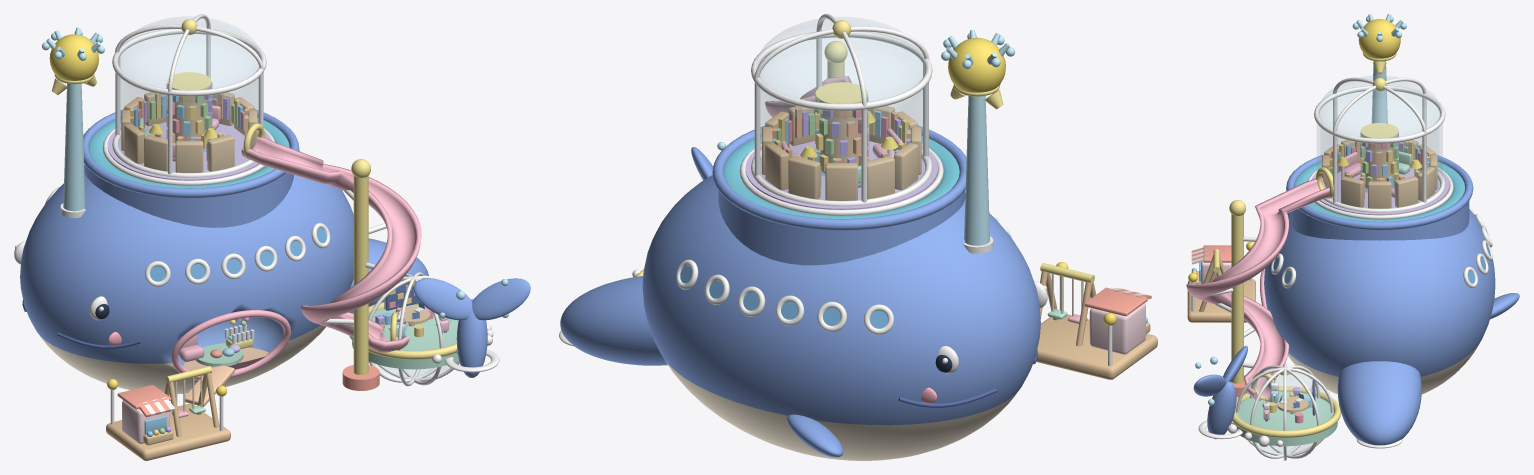
The picture shows the model from 3 angles, left to right: view 1: azimuth 30°, elevation 25°; view 2: azimuth 150°, elevation 25°; view 3: azimuth 270°, elevation 25°; orthographic projection. The views are drawn at different scales.
Visible parts, largest first — view 1: くじらの体, せなかからしっぽまでのすべり台, ガラスの屋根, 本の部屋の台, 台のふち, お店のデッキ, すべり台の柱, 潮のはしら, さわれる部屋のうき, ガラスのわく.001, おなかの窓のわく, しずかの水のみぞ (+25 smaller); view 2: くじらの体, ガラスの屋根, 本の部屋の台, しっぽの付け根, 台のふち, お店のデッキ, 潮のはしら, しずかの水のみぞ, ガラスのわく.001, 夜に光る潮のランプ, お店の小屋, 本の部屋のゆか (+17 smaller); view 3: くじらの体, せなかからしっぽまでのすべり台, しっぽの付け根, ガラスの屋根, 本の部屋の台, さわれる部屋のうき, 台のふち, すべり台の柱, ガラスのわく.001, しずかの水のみぞ, うきのふち, さわれる部屋のドーム (+23 smaller).
Part boxes in pixels (x1,y1,x2,y2): くじらの体: (20,147,353,393); せなかからしっぽまでのすべり台: (241,137,421,352); ガラスの屋根: (117,16,261,107); 本の部屋の台: (84,164,294,227); 台のふち: (83,109,299,198); お店のデッキ: (106,403,230,460); すべり台の柱: (353,175,368,374); 潮のはしら: (63,83,85,211); さわれる部屋のうき: (352,305,458,369); ガラスのわく.001: (112,29,266,96); おなかの窓のわく: (171,310,290,379); しずかの水のみぞ: (89,117,289,188); くじらの体: (642,171,1040,460); ガラスの屋根: (757,17,926,123); 本の部屋の台: (718,183,965,265); しっぽの付け根: (560,276,667,365); 台のふち: (712,126,966,230); お店のデッキ: (1036,314,1157,379); 潮のはしら: (964,96,989,245); しずかの水のみぞ: (724,135,959,218); ガラスのわく.001: (751,31,932,110); 夜に光る潮のランプ: (948,37,1005,92); お店の小屋: (1089,303,1145,354); 本の部屋のゆか: (745,141,937,209); くじらの体: (1264,187,1495,394); せなかからしっぽまでのすべり台: (1186,177,1329,400); しっぽの付け根: (1337,361,1421,445); ガラスの屋根: (1319,75,1440,152); 本の部屋の台: (1290,195,1469,240); さわれる部屋のうき: (1233,391,1337,446); 台のふち: (1286,154,1473,230); すべり台の柱: (1231,214,1243,383); ガラスのわく.001: (1314,85,1445,143); しずかの水のみぞ: (1294,161,1464,221); うきのふち: (1232,386,1340,437); さわれる部屋のドーム: (1240,372,1329,454).
Size of the model in its own units: 147 by 133 by 127.
